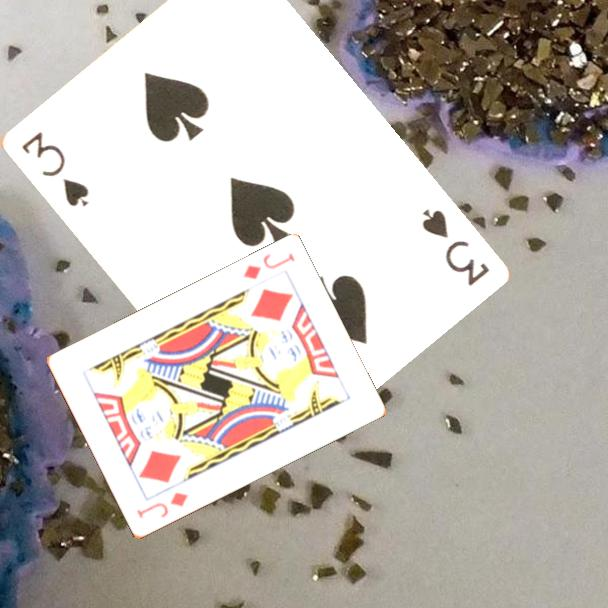d11: (133, 489, 191, 522), (240, 250, 298, 283)
s03: (417, 205, 492, 289), (17, 128, 92, 210)
